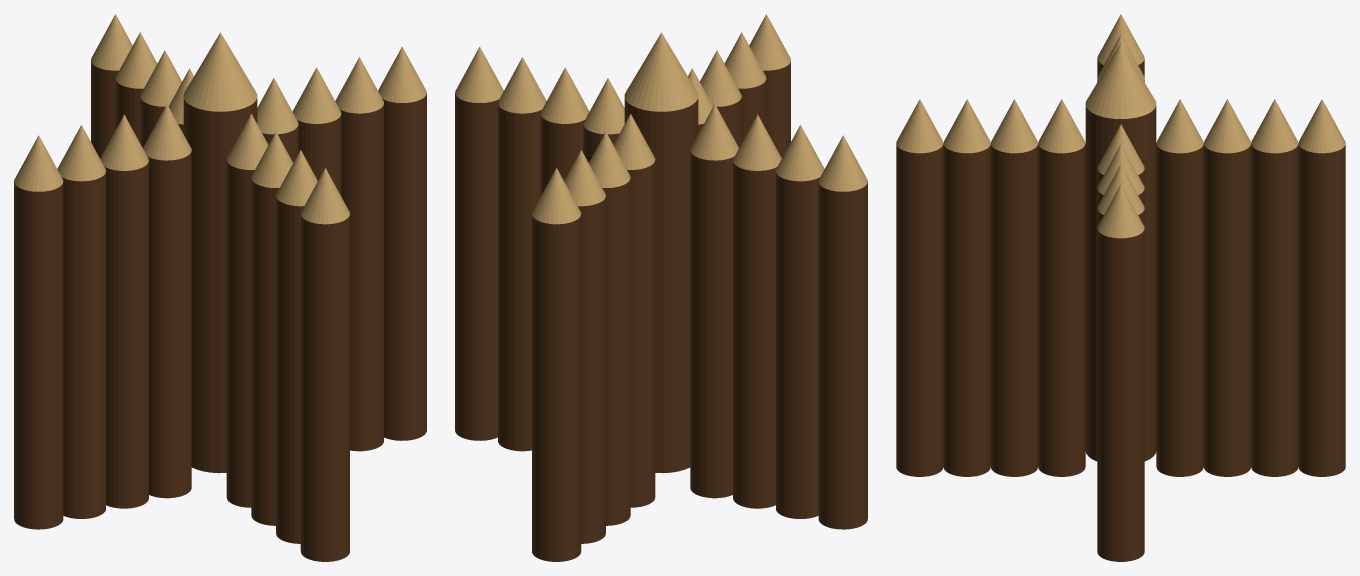
Rendered from lvl1_4.glb.
3 views of the same model, side by side, from view 1: azimuth 30°, elevation 25°; view 2: azimuth 150°, elevation 25°; view 3: azimuth 270°, elevation 25° (orthographic). The views are drawn at different scales.
Parts seen in each view (by area): view 1: Cylinder.027; view 2: Cylinder.027; view 3: Cylinder.027.
Boxes of the visible parts, x1,y1,x2,y2 form: Cylinder.027: (14, 14, 426, 561); Cylinder.027: (455, 14, 867, 561); Cylinder.027: (896, 14, 1345, 561).
Bounding box in the file's own units: 1 × 1.04 × 1.
